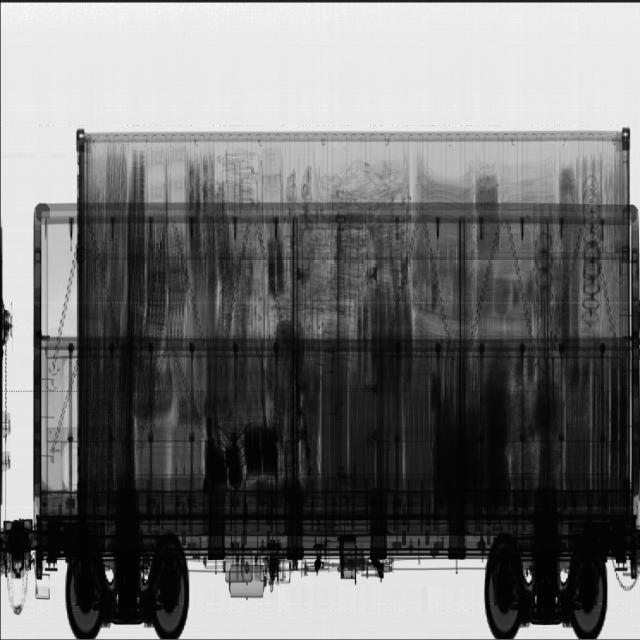auto parts: (83, 148, 626, 498)
